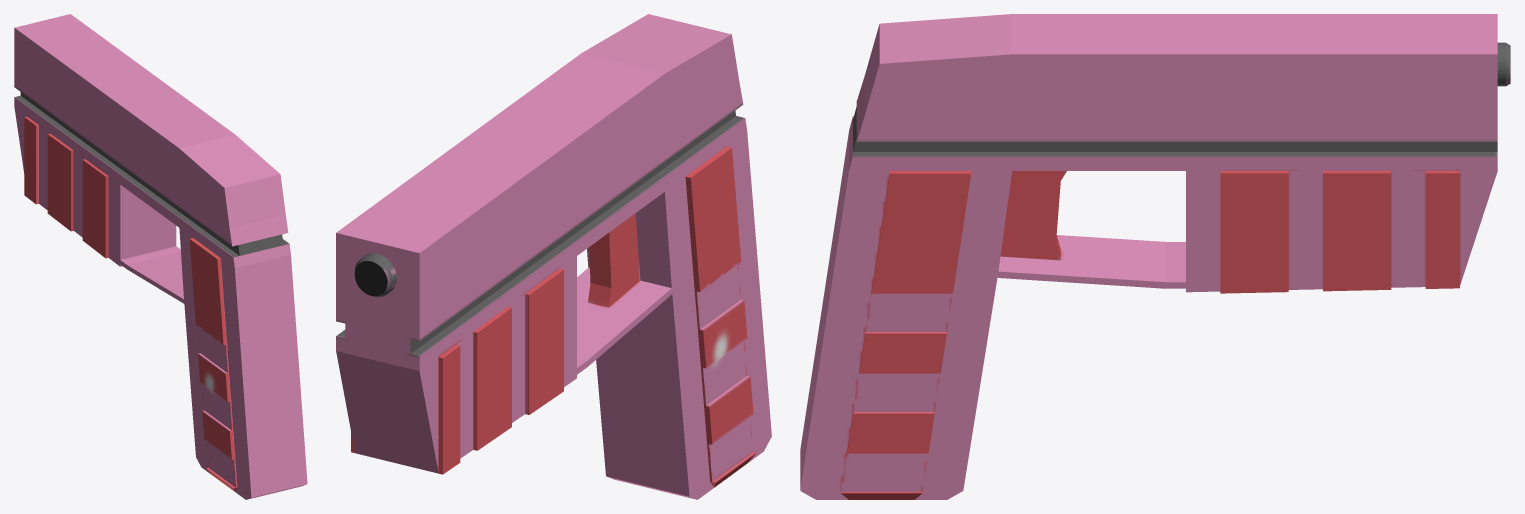
File: scifi-blaster.glb
The picture shows the model from 3 angles, left to right: view 1: azimuth 30°, elevation 25°; view 2: azimuth 150°, elevation 25°; view 3: azimuth 270°, elevation 25°; orthographic projection. The views are drawn at different scales.
Parts seen in each view (by area): view 1: Cube; view 2: Cube; view 3: Cube.
Part boxes in pixels (x1,y1,x2,y2): Cube: (14, 14, 307, 499); Cube: (336, 14, 771, 499); Cube: (800, 14, 1510, 499).
Size of the model in its own units: 0.7847 by 3.58 by 5.18.
Materials: 1 (1 with a texture image).
